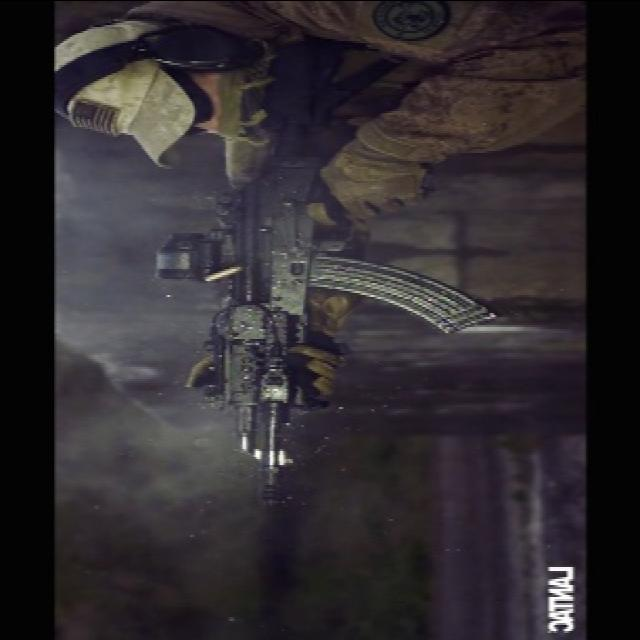rifle: (155, 43, 497, 509)
